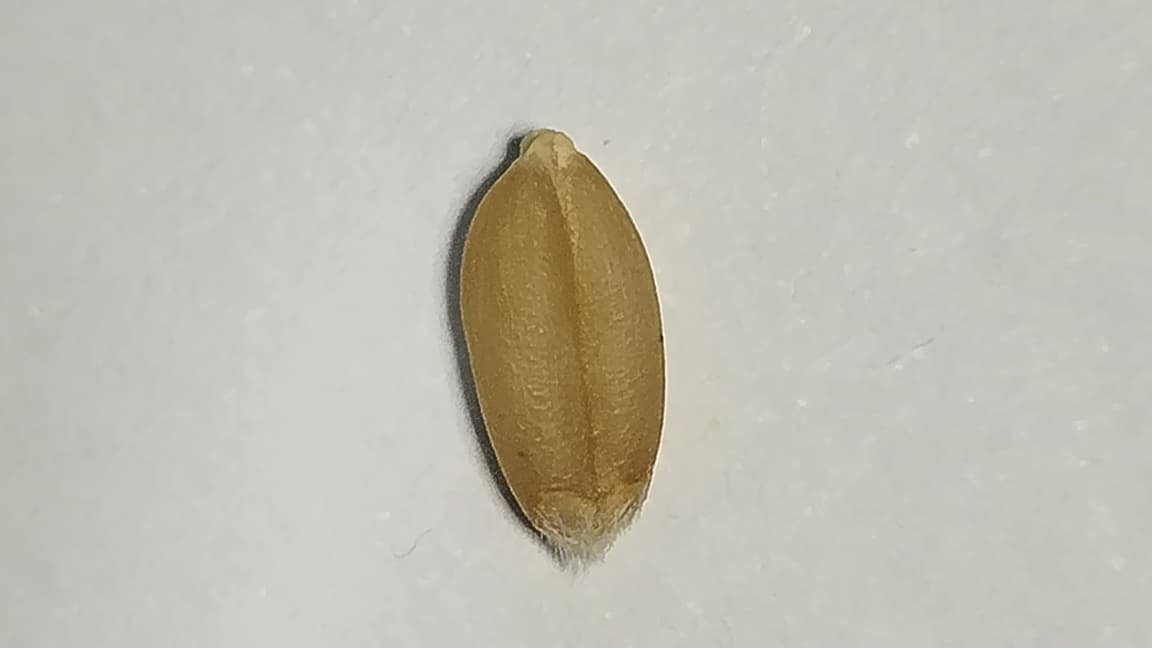healthy: (462, 130, 665, 554)
